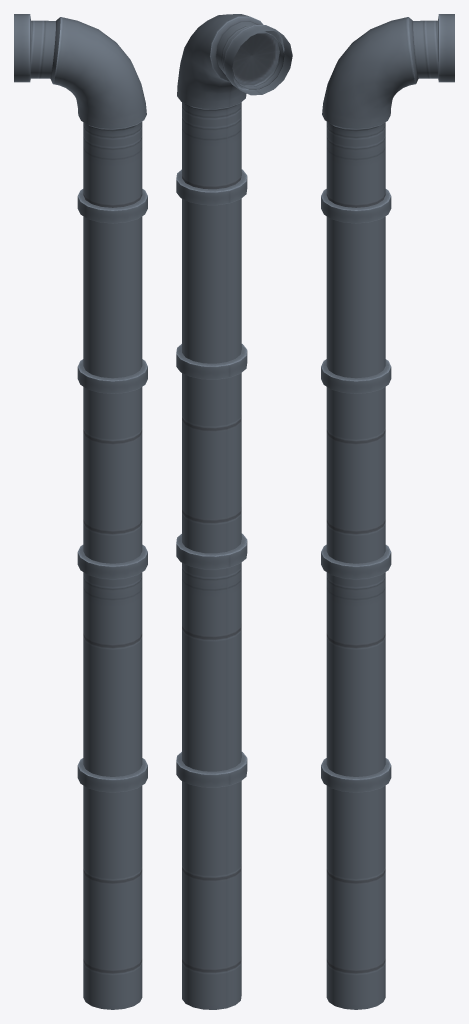
File: Pipe1.fbx
3 renders of one model, left to right at view 1: azimuth 90°, elevation 25°; view 2: azimuth 210°, elevation 25°; view 3: azimuth 270°, elevation 25°, orthographic. The views are drawn at different scales.
Parts seen in each view (by area): view 1: polySurface976; view 2: polySurface976; view 3: polySurface976.
Boxes of the visible parts, x1,y1,x2,y2 form: polySurface976: (14,14,147,1009); polySurface976: (176,14,292,1009); polySurface976: (321,14,454,1009).
Size of the model in its own units: 20.52 by 316 by 39.12.
